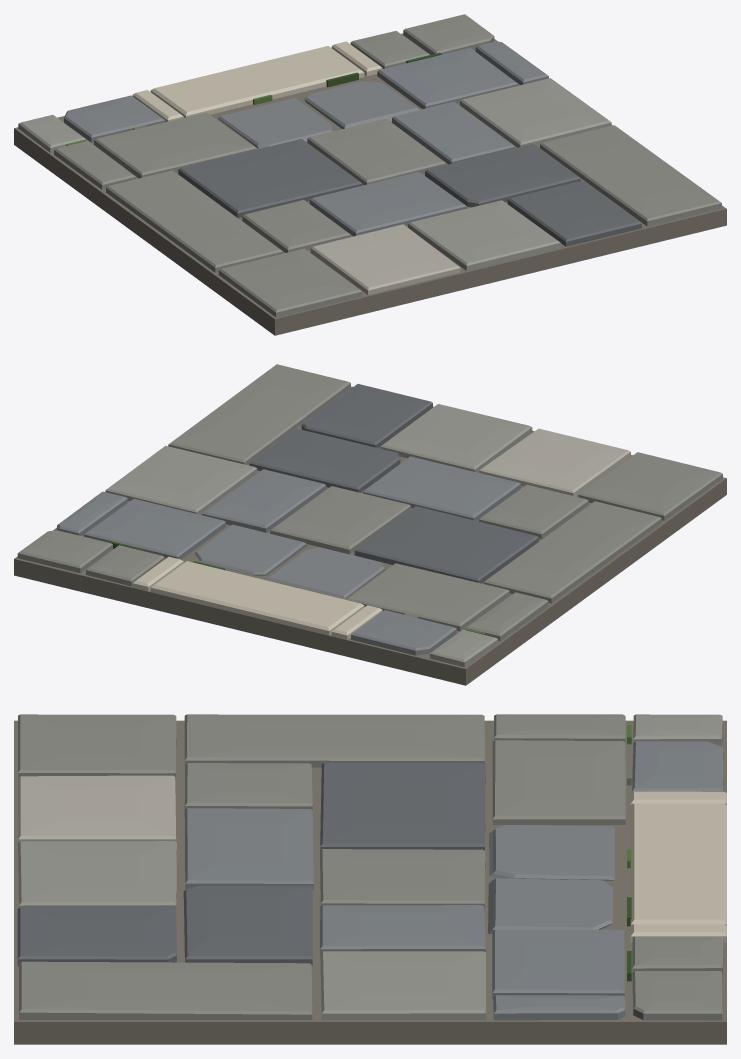
Rendered from SM_LPD_Floor_PavingBorderThreshold_01.fbx.
The picture shows the model from 3 angles, top to bottom: view 1: azimuth 30°, elevation 25°; view 2: azimuth 150°, elevation 25°; view 3: azimuth 270°, elevation 25°; orthographic projection. The views are drawn at different scales.
Parts seen in each view (by area): view 1: SM_LPD_Floor_PavingBorderThreshold_01; view 2: SM_LPD_Floor_PavingBorderThreshold_01; view 3: SM_LPD_Floor_PavingBorderThreshold_01.
Boxes of the visible parts, <box> form: SM_LPD_Floor_PavingBorderThreshold_01: <box>14,14,726,335</box>; SM_LPD_Floor_PavingBorderThreshold_01: <box>14,364,726,685</box>; SM_LPD_Floor_PavingBorderThreshold_01: <box>14,714,726,1044</box>.
Bounding box in the file's own units: 4 × 0.2 × 4.
